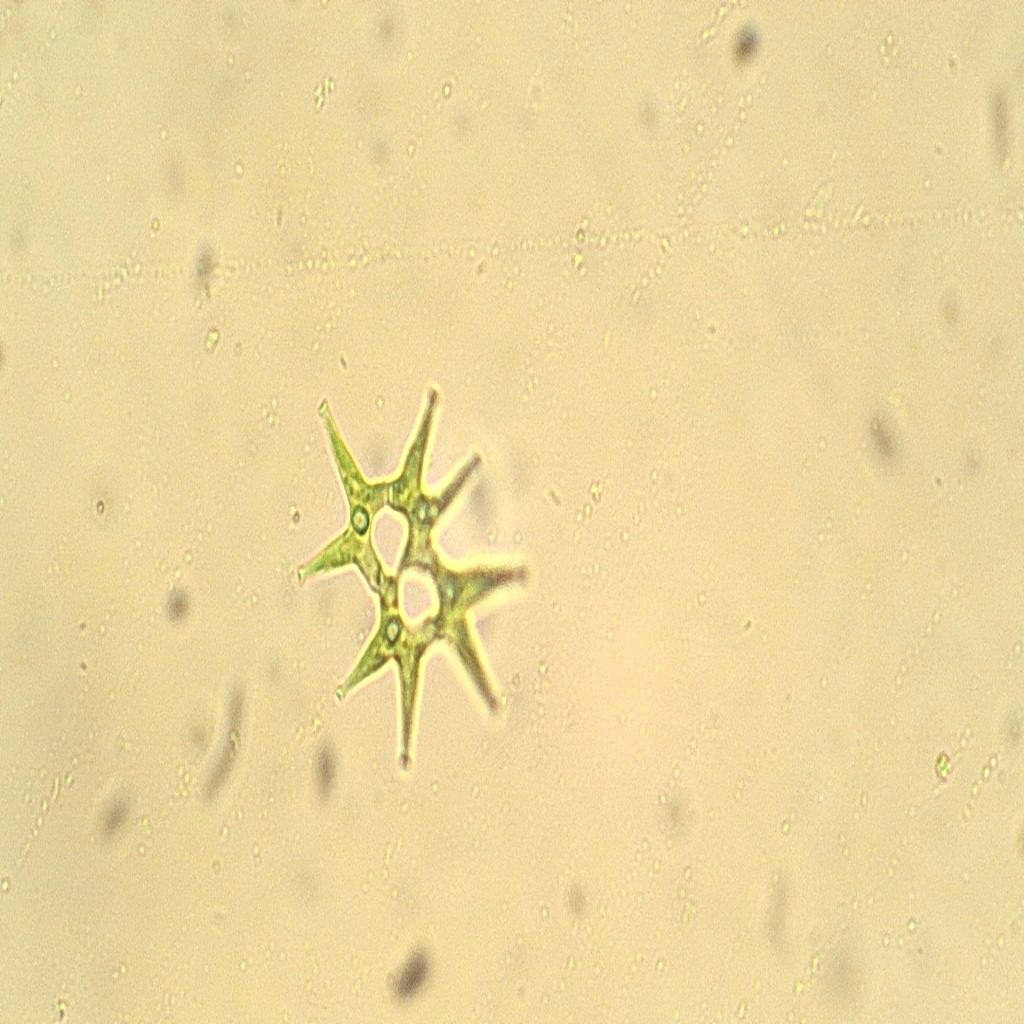Pediastrum_CF: (279, 346, 546, 802)
